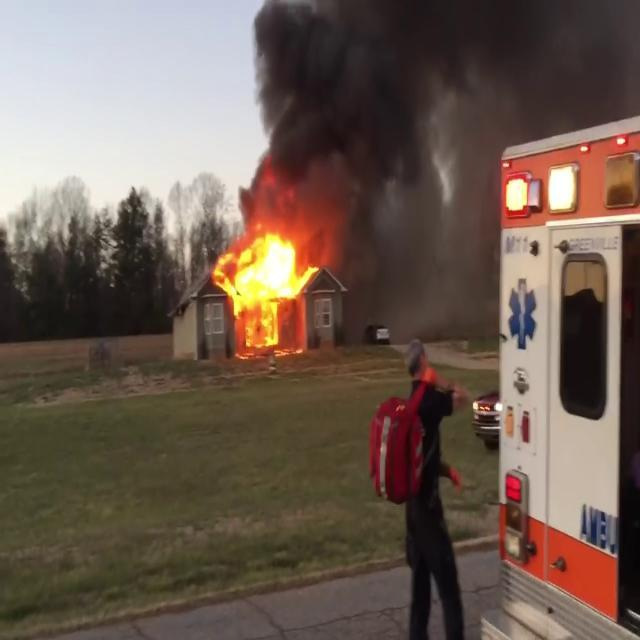Fire: (215, 223, 318, 349)
Smoke: (236, 0, 639, 245)
